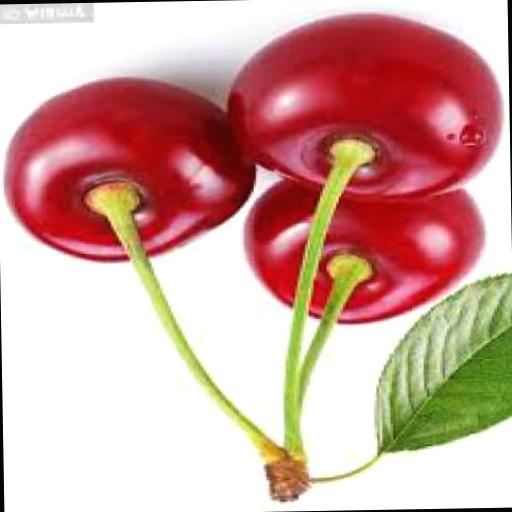biodegradable: (222, 14, 500, 206), (0, 78, 257, 267), (242, 180, 482, 328), (369, 276, 512, 457)
